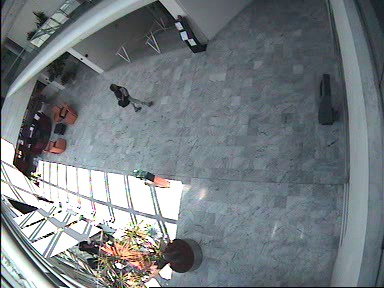person: (111, 84, 153, 111)
